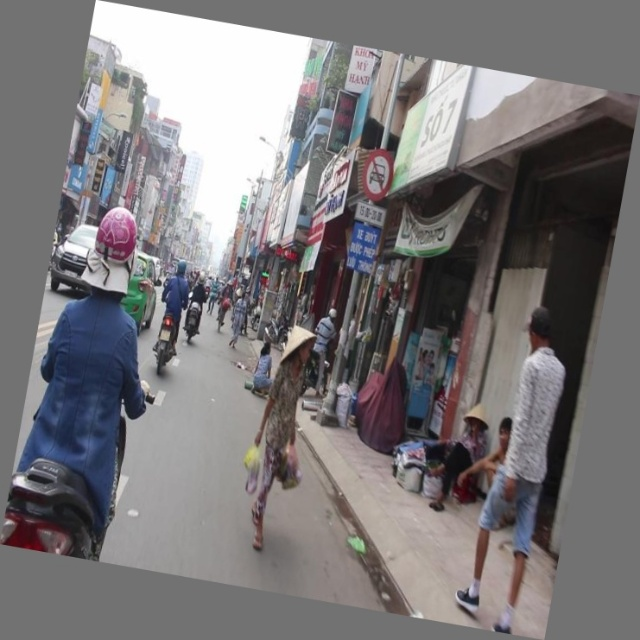P.103a: (358, 144, 398, 205)
